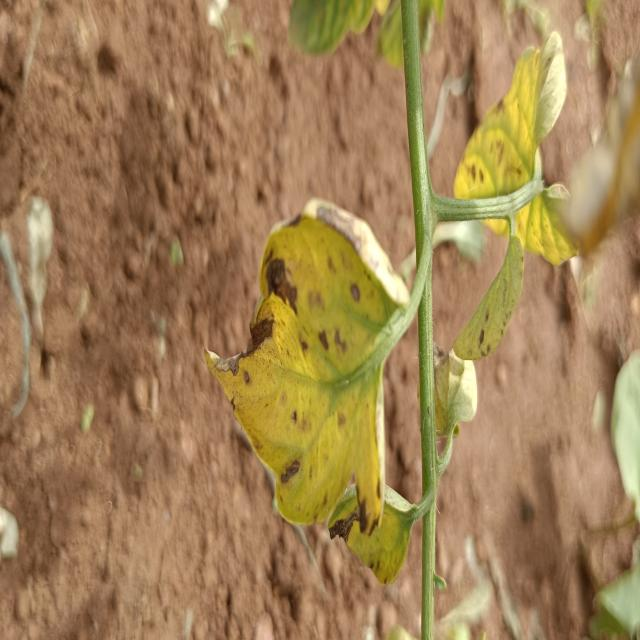tomato_early blight: (205, 199, 414, 533), (450, 34, 583, 262), (322, 472, 416, 584), (452, 239, 528, 356)
